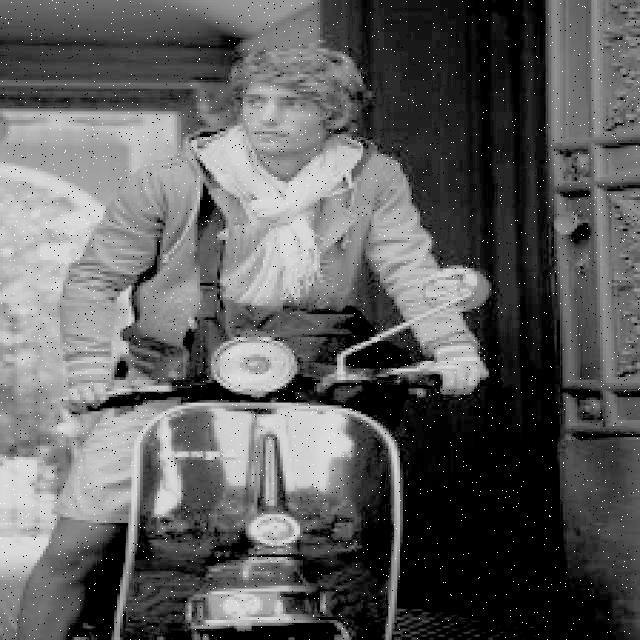Bike: (117, 333, 413, 639)
